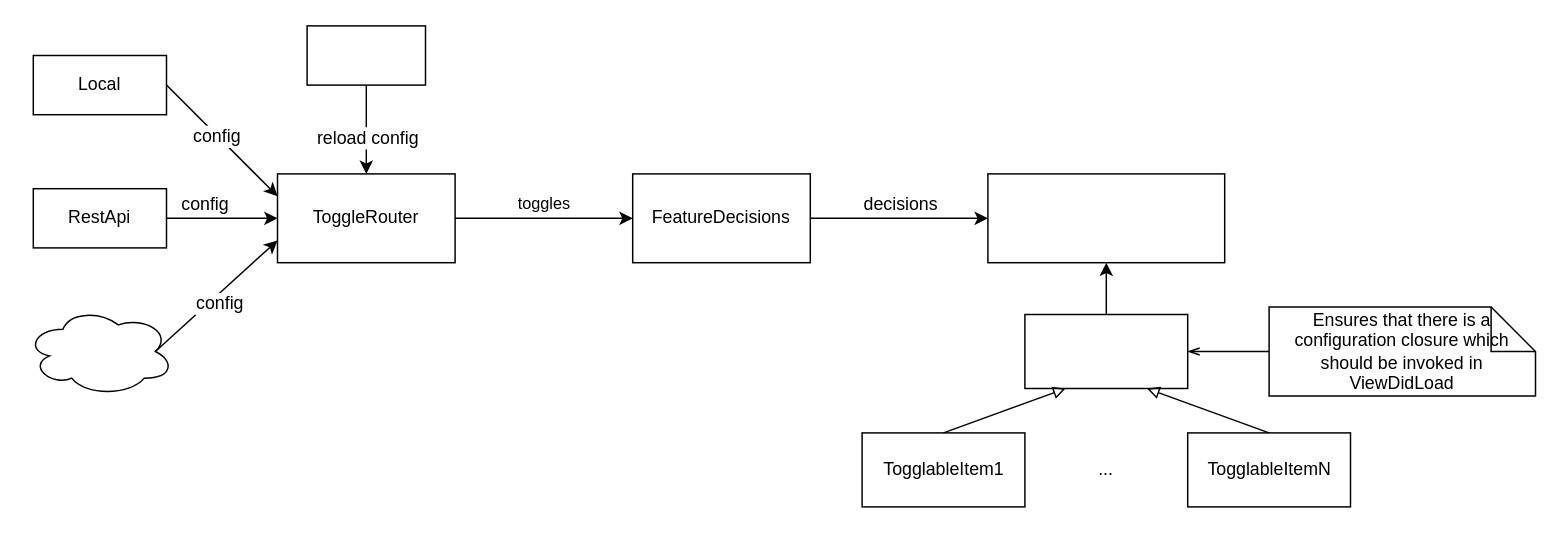
The diagram is 1561 pixels wide and 533 high, and some of its shapes have lost their labels. Here are the shapes that lost their labels. From the top down, the box of each, then its label:
(306, 24, 426, 85): Push Notification
(986, 172, 1225, 263): FeatureTogglableDecorator
(24, 306, 174, 396): Cloud
(1023, 313, 1188, 388): «interface» Togglable
